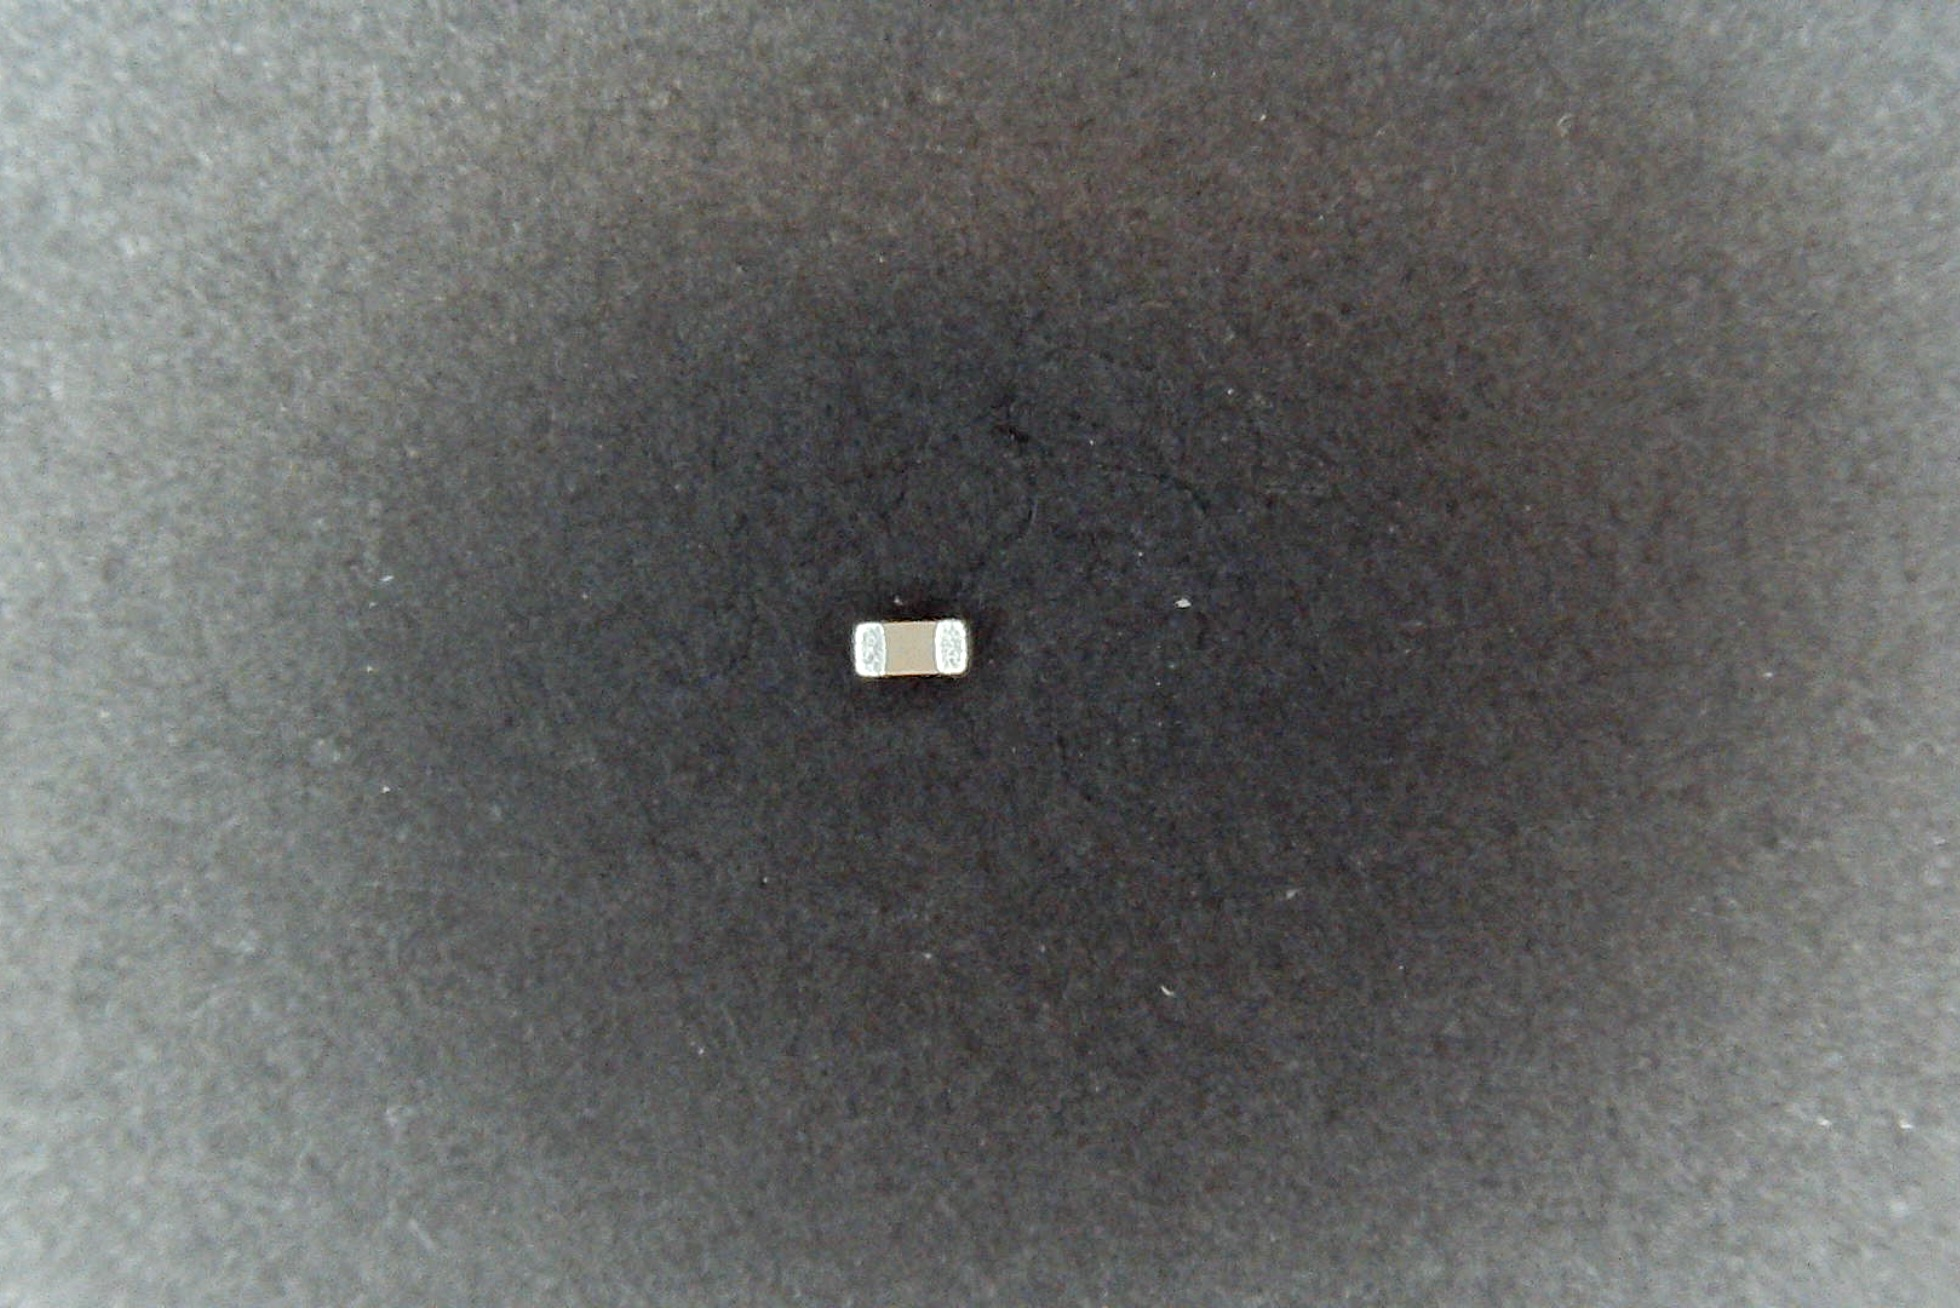bbox: (849, 618, 971, 683)
